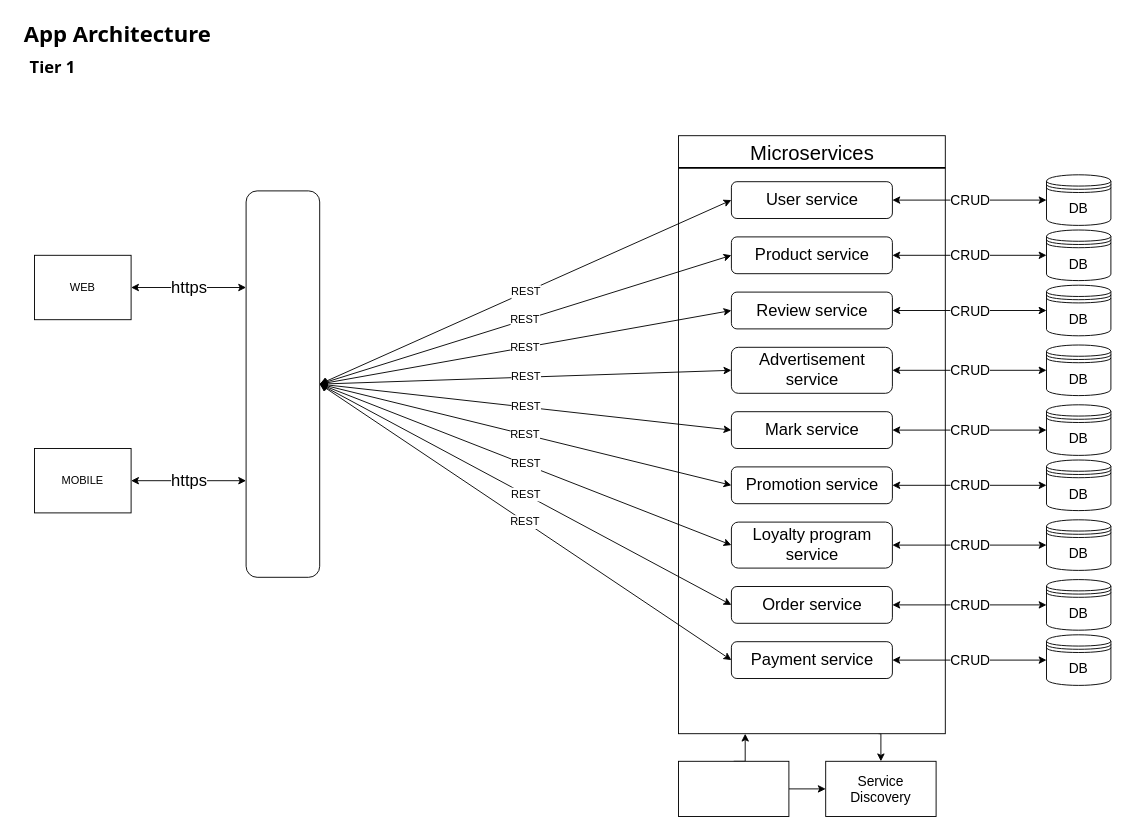
Some shapes in this 1127 by 833 pixel diagram are drawn without their labels. The shapes that lost their labels are listed below. From the top down, each one's box as (x1, y1, x2, y2) in pixels, then its label:
(245, 190, 320, 577): API Gateway
(678, 760, 789, 816): Management
